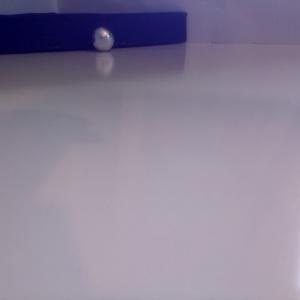zone: (1, 12, 187, 55)
